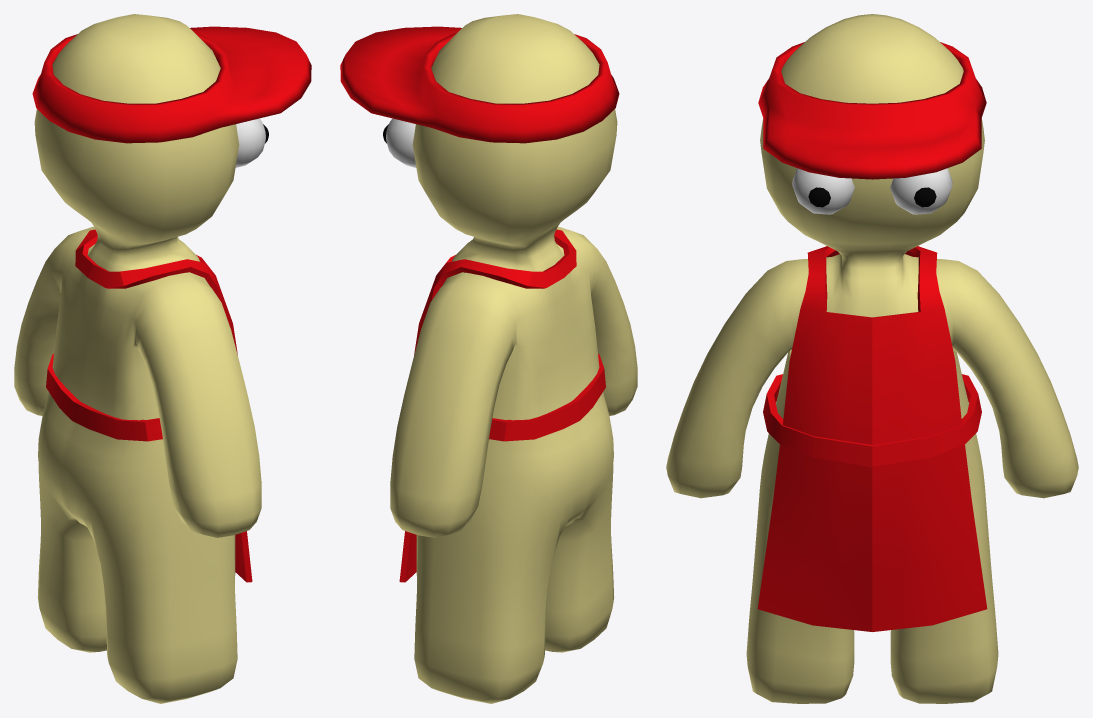
Rendered from piaria_riggadoblend1.fbx.
3 renders of one model, left to right at view 1: azimuth 30°, elevation 25°; view 2: azimuth 150°, elevation 25°; view 3: azimuth 270°, elevation 25°, orthographic. The views are drawn at different scales.
Parts seen in each view (by area): view 1: Cube.002, Cylinder.002, Plane.002, Sphere; view 2: Cube.002, Cylinder.002, Plane.002, Sphere; view 3: Cube.002, Plane.002, Cylinder.002, Sphere, Sphere.001.
Boxes of the visible parts, x1=… form: Cube.002: x1=14, y1=14, x2=261, y2=703; Cylinder.002: x1=32, y1=26, x2=311, y2=143; Plane.002: x1=46, y1=229, x2=252, y2=582; Sphere: x1=235, y1=118, x2=265, y2=167; Cube.002: x1=390, y1=14, x2=637, y2=703; Cylinder.002: x1=340, y1=26, x2=619, y2=143; Plane.002: x1=399, y1=229, x2=605, y2=582; Sphere: x1=386, y1=118, x2=416, y2=167; Cube.002: x1=666, y1=14, x2=1078, y2=703; Plane.002: x1=757, y1=246, x2=987, y2=631; Cylinder.002: x1=758, y1=42, x2=986, y2=179; Sphere: x1=792, y1=168, x2=952, y2=214; Sphere.001: x1=808, y1=187, x2=936, y2=207.
Size of the model in its own units: 274 by 665 by 376.
